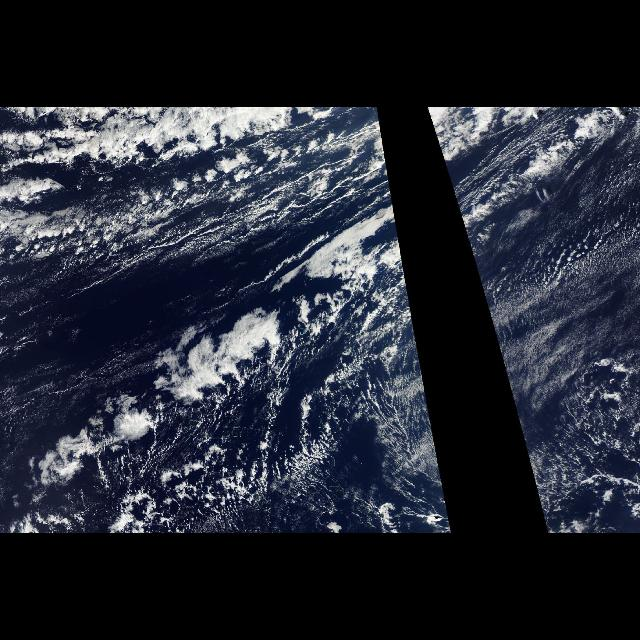Gravel: (100, 447, 352, 533), (273, 300, 407, 438), (560, 335, 640, 531)
Sugar: (462, 165, 640, 425), (1, 268, 91, 408)
